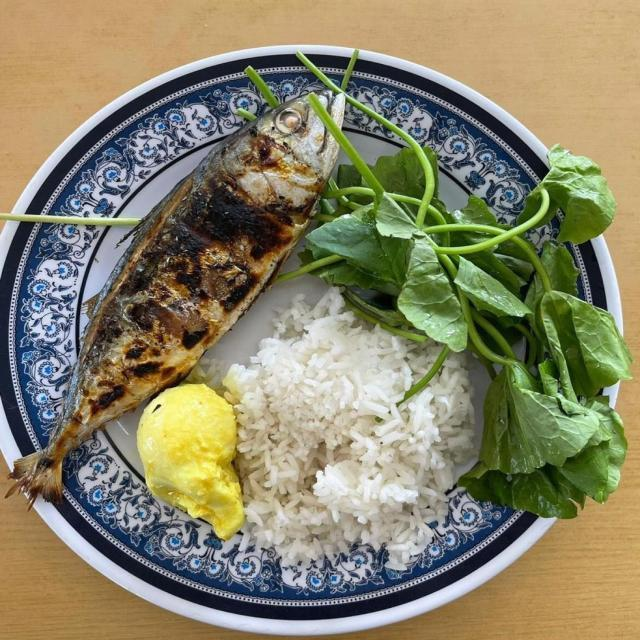Egg: (139, 378, 243, 544)
Fish: (0, 87, 349, 507)
Plate: (0, 52, 631, 518)
Rice: (228, 283, 482, 575)
Vegetables: (240, 46, 631, 529)
